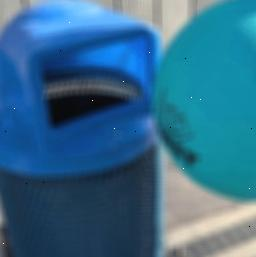algae: (157, 0, 256, 202)
